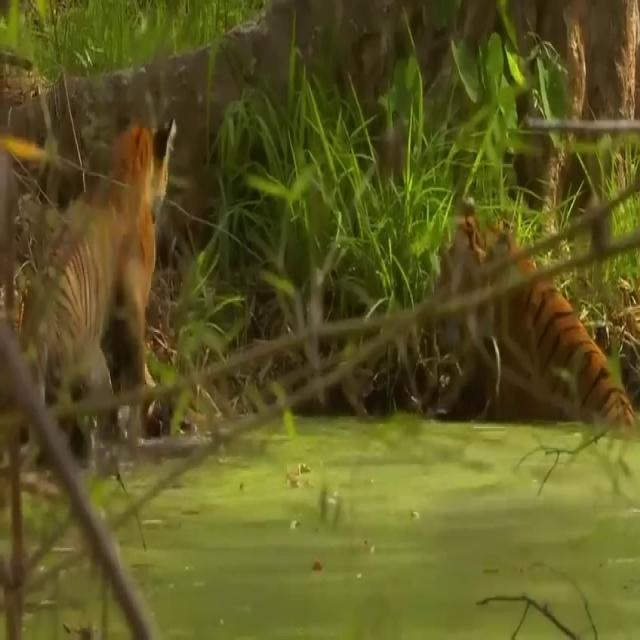tiger: (18, 113, 177, 457), (428, 210, 637, 430)
